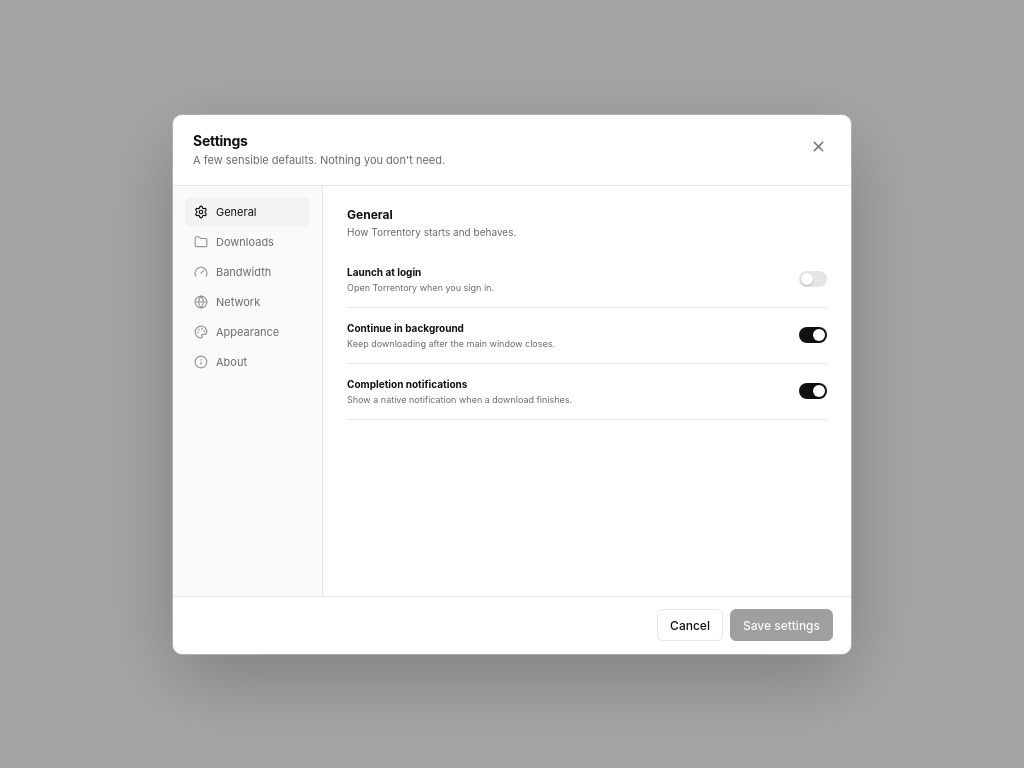
Test: shows the app version in About
Step 1. Click the button "About" → (248, 362), box [185,348,310,376]
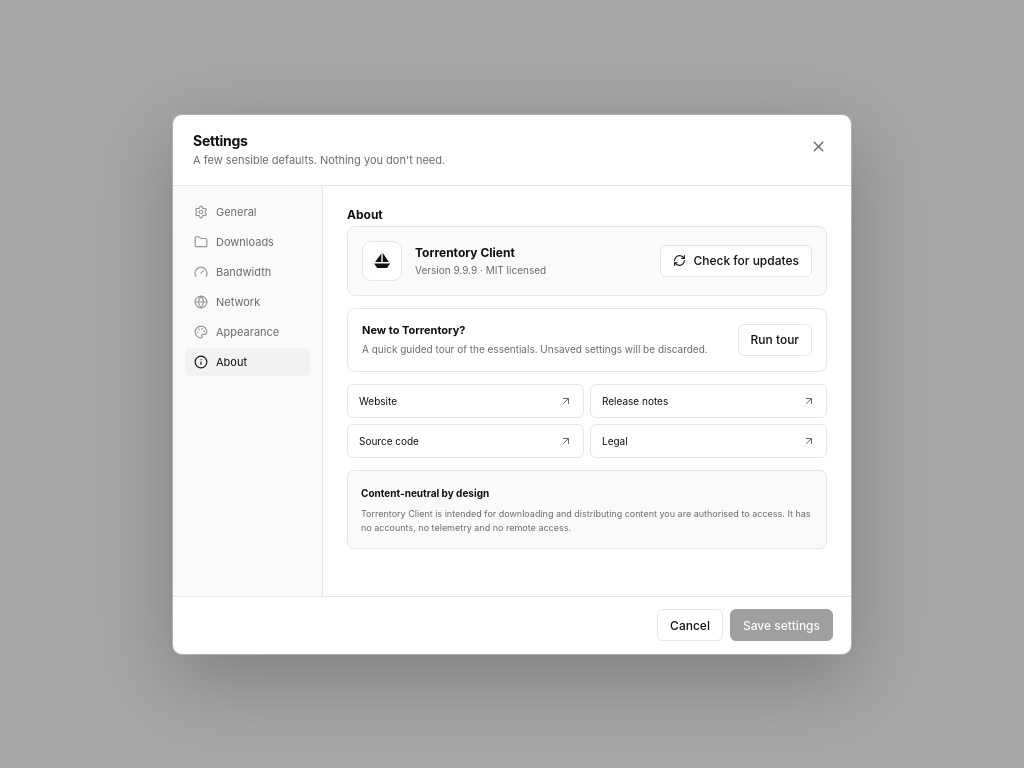
Now the text "Version 9.9.9 · MIT licensed" is shown, box [415,264,546,276]
